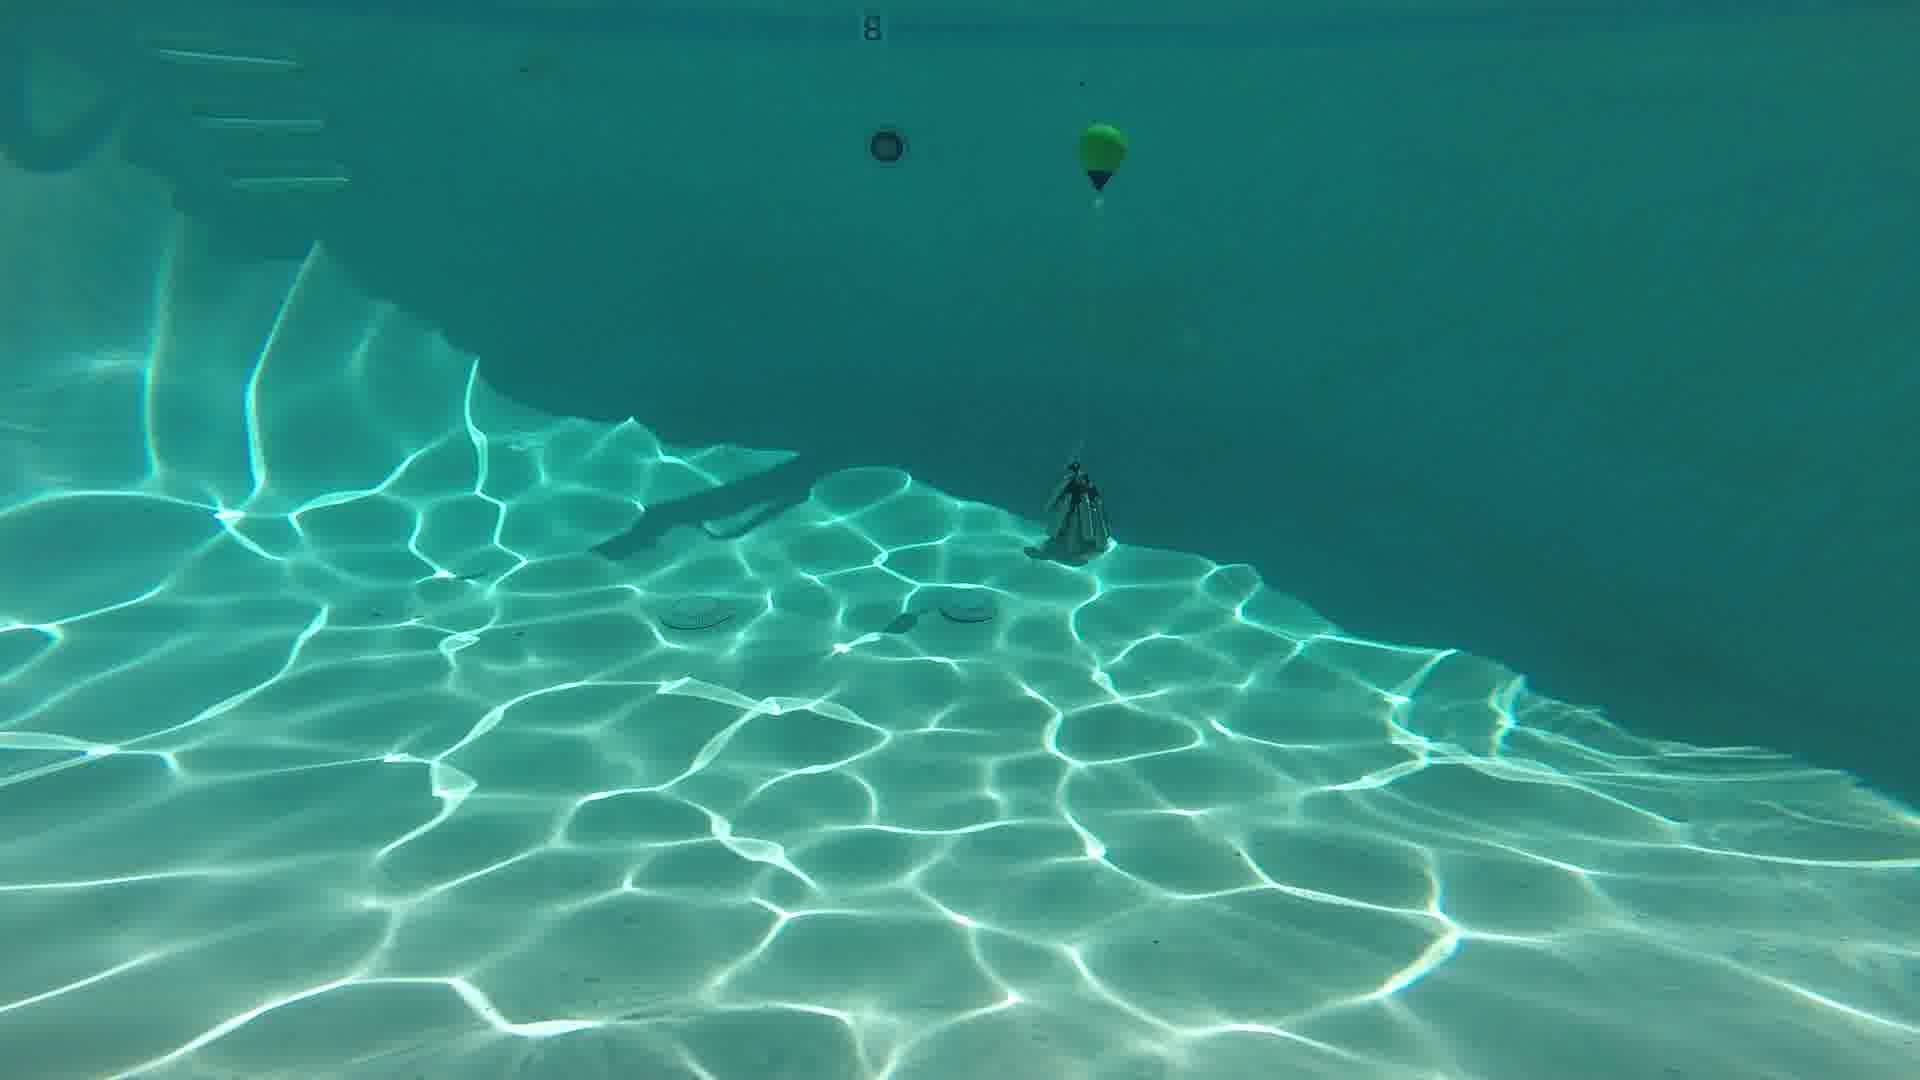yellow_buoy: (1083, 123, 1125, 193)
